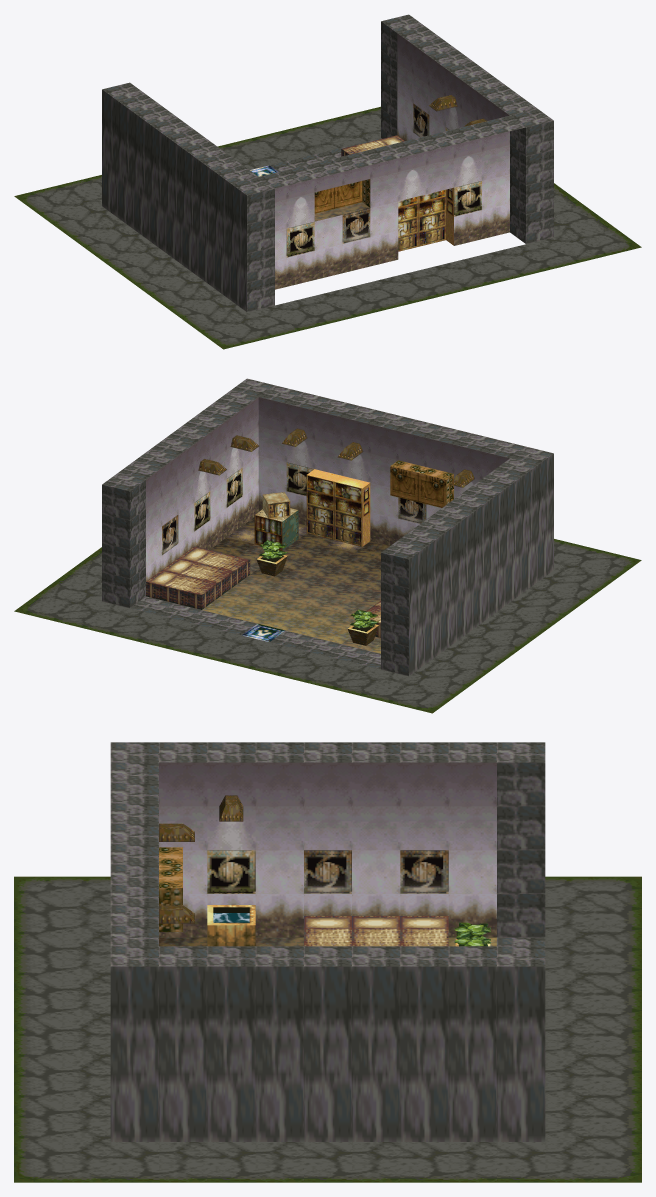
File: catalog.obj
3 renders of one model, top to bottom at view 1: azimuth 30°, elevation 25°; view 2: azimuth 150°, elevation 25°; view 3: azimuth 270°, elevation 25°, orthographic. The views are drawn at different scales.
Visible parts, largest first — view 1: cell_9_9, cell_17_9, cell_11_9, cell_14_9, cell_13_9, cell_16_9, cell_10_9, cell_15_9, cell_18_9, cell_18_15, cell_18_10, cell_18_11 (+12 smaller); view 2: cell_18_16, cell_9_9, cell_12_9, cell_11_9, cell_8_16, cell_13_9, cell_10_9, cell_14_9, cell_9_15, cell_9_10, cell_18_15, cell_18_9 (+19 smaller); view 3: cell_8_8, cell_8_9, cell_8_10, cell_8_11, cell_8_13, cell_8_14, cell_8_15, cell_8_16, cell_8_12, cell_17_10, cell_17_11, cell_17_16 (+105 smaller).
Part boxes in pixels (x1,y1,x2,y2): cell_9_9: (482, 104, 553, 243); cell_17_9: (247, 186, 286, 312); cell_11_9: (418, 145, 453, 246); cell_14_9: (334, 165, 370, 272); cell_13_9: (370, 158, 398, 266); cell_16_9: (286, 179, 314, 286); cell_10_9: (454, 138, 481, 245); cell_15_9: (314, 172, 342, 279); cell_18_9: (214, 165, 258, 300); cell_18_15: (118, 94, 161, 229); cell_18_10: (198, 153, 241, 288); cell_18_11: (182, 141, 225, 276); cell_18_16: (381, 541, 424, 676); cell_9_9: (242, 397, 286, 528); cell_12_9: (327, 417, 370, 552); cell_11_9: (299, 411, 342, 545); cell_8_16: (102, 473, 145, 607); cell_13_9: (354, 424, 398, 559); cell_10_9: (282, 404, 314, 538); cell_14_9: (390, 431, 426, 539); cell_9_15: (146, 468, 189, 602); cell_9_10: (226, 409, 259, 544); cell_18_15: (397, 529, 441, 664); cell_18_9: (494, 458, 537, 593); cell_8_8: (110, 946, 158, 1141); cell_8_9: (159, 946, 207, 1141); cell_8_10: (207, 946, 255, 1141); cell_8_11: (255, 946, 303, 1141); cell_8_13: (352, 946, 400, 1141); cell_8_14: (400, 946, 448, 1141); cell_8_15: (448, 946, 496, 1141); cell_8_16: (497, 946, 545, 1141); cell_8_12: (304, 946, 351, 1141); cell_17_10: (207, 762, 255, 946); cell_17_11: (255, 762, 303, 946); cell_17_16: (497, 762, 545, 946).
Bounding box in the file's own units: 0.2344 × 0.0625 × 0.2031.
Materials: 32 (32 with a texture image).
